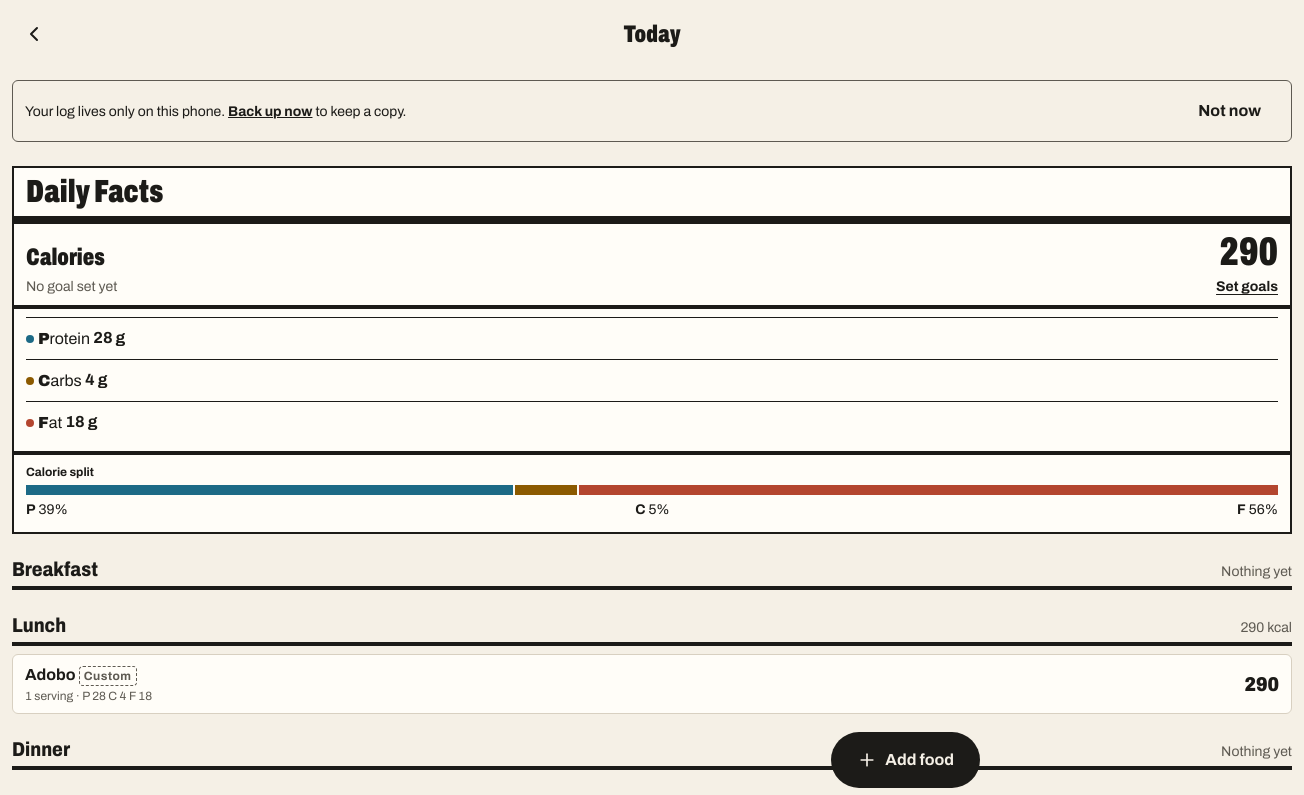
Test: Today logging › deletes on long-press
Step 1. Press the mouse on the button "Adobo Custom 1 serving · P 28 C 4 F 18 290" → (50, 674), box [12,654,1292,714]
Wait 600 ms
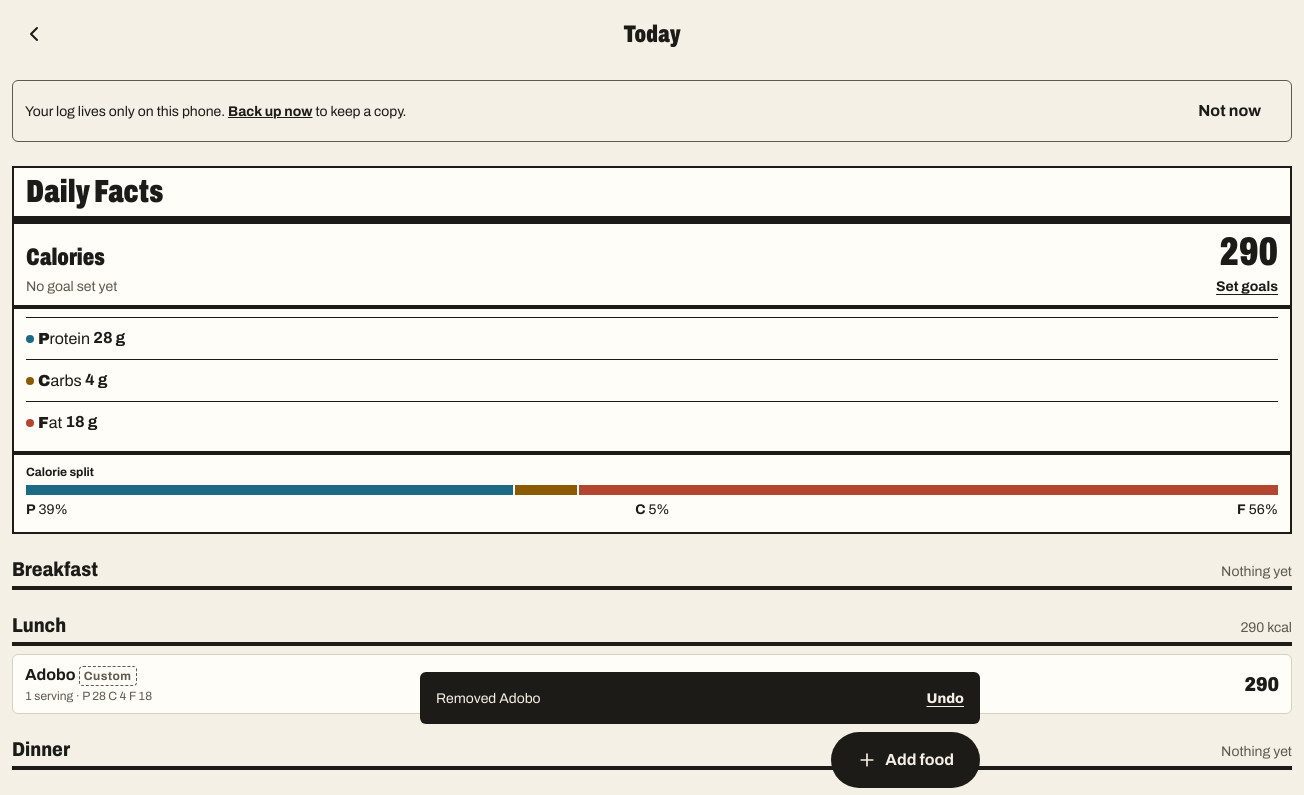
Expected: the text "Removed Adobo" is shown, [436,690,541,706]
